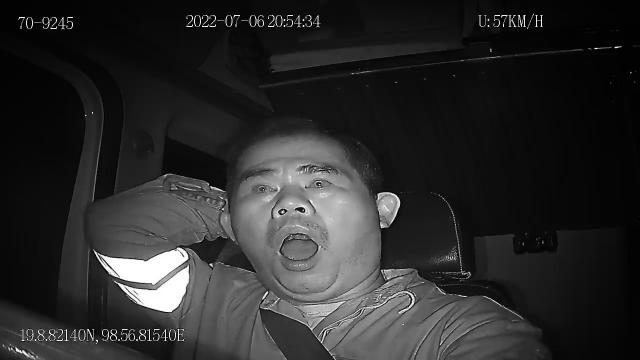SafeDriving: (296, 162, 342, 194), (246, 174, 283, 201)
Seatbelt: (256, 305, 338, 360)
